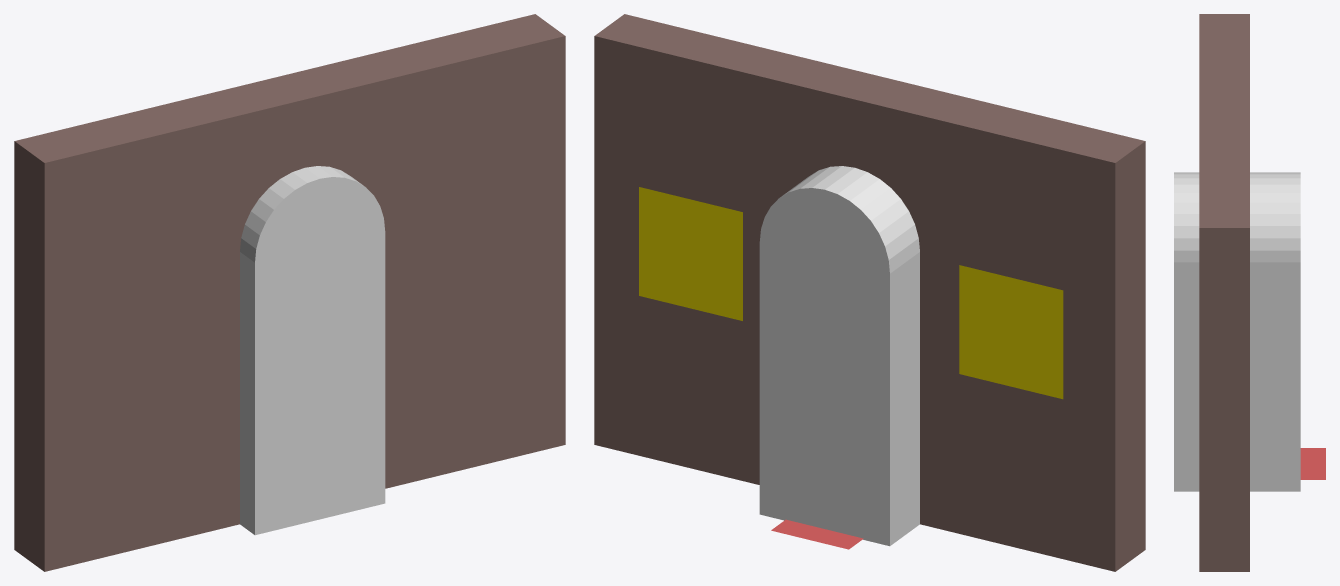
The model's file is mihrab.glb.
3 views of the same model, side by side, from view 1: azimuth 30°, elevation 25°; view 2: azimuth 150°, elevation 25°; view 3: azimuth 270°, elevation 25° (orthographic). The views are drawn at different scales.
Parts seen in each view (by area): view 1: Mihrab_Wall, Master_Cutter; view 2: Mihrab_Wall, Master_Cutter, Plane, Plane.001, Prayer_Rug; view 3: Mihrab_Wall, Master_Cutter, Prayer_Rug.
Boxes of the visible parts, x1=… form: Mihrab_Wall: x1=14, y1=14, x2=565, y2=571; Master_Cutter: x1=240, y1=166, x2=385, y2=535; Mihrab_Wall: x1=594, y1=14, x2=1145, y2=571; Master_Cutter: x1=759, y1=166, x2=919, y2=546; Plane: x1=959, y1=265, x2=1063, y2=399; Plane.001: x1=639, y1=187, x2=742, y2=320; Prayer_Rug: x1=771, y1=519, x2=863, y2=549; Mihrab_Wall: x1=1199, y1=14, x2=1249, y2=571; Master_Cutter: x1=1174, y1=172, x2=1300, y2=491; Prayer_Rug: x1=1300, y1=448, x2=1325, y2=479.
Size of the model in its own units: 4 by 3 by 1.2.
